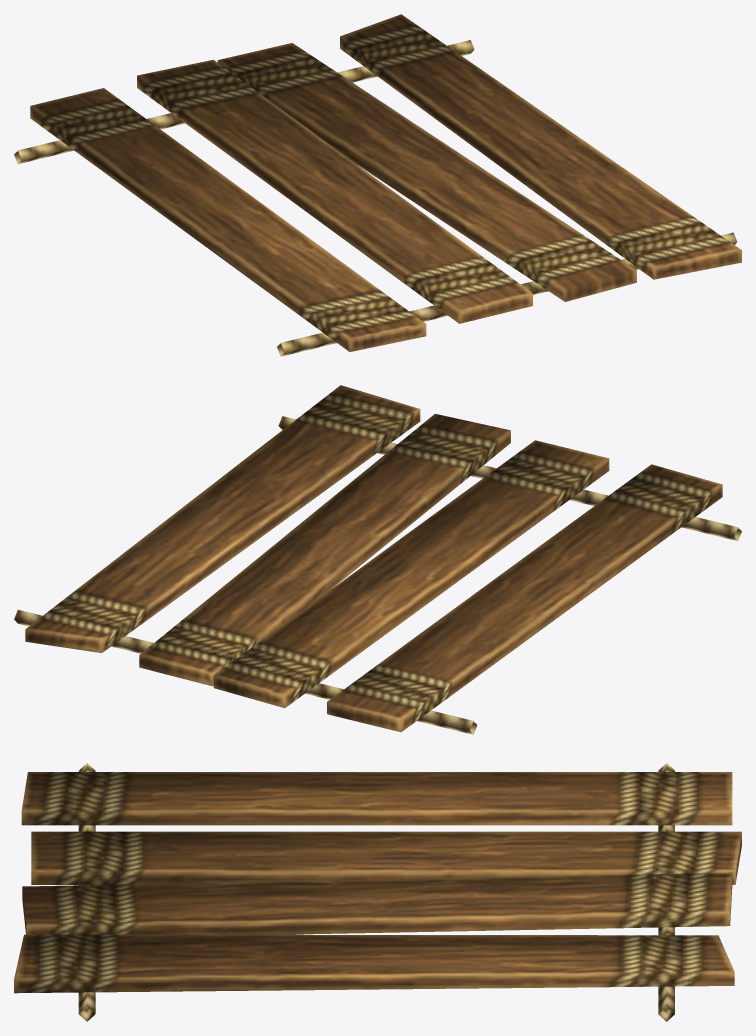
File: WoddenBridge02.FBX
The picture shows the model from 3 angles, top to bottom: view 1: azimuth 30°, elevation 25°; view 2: azimuth 150°, elevation 25°; view 3: azimuth 270°, elevation 25°; orthographic projection. The views are drawn at different scales.
Visible parts, largest first — view 1: WoddenBridge02; view 2: WoddenBridge02; view 3: WoddenBridge02.
Boxes of the visible parts, x1,y1,x2,y2 form: WoddenBridge02: (14, 14, 741, 356); WoddenBridge02: (14, 385, 741, 734); WoddenBridge02: (14, 763, 741, 1021).
Bounding box in the file's own units: 4.97 × 6.28 × 0.2768.
